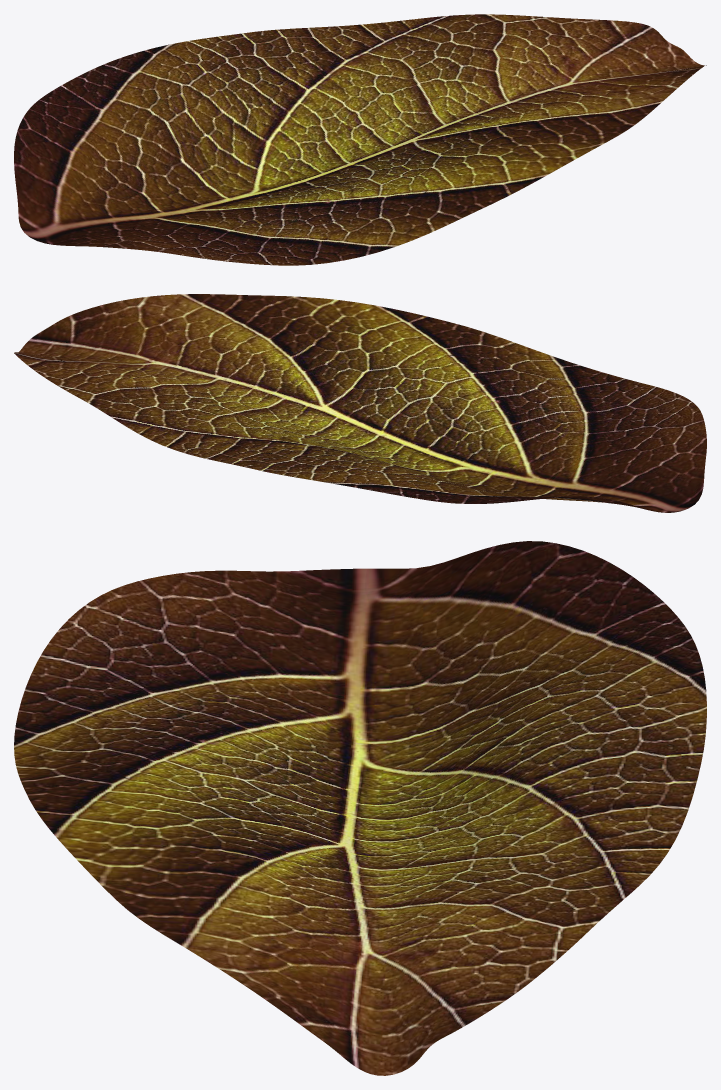
The model's file is leaf_c5.2.glb.
The picture shows the model from 3 angles, top to bottom: view 1: azimuth 30°, elevation 25°; view 2: azimuth 150°, elevation 25°; view 3: azimuth 270°, elevation 25°; orthographic projection. The views are drawn at different scales.
Visible parts, largest first — view 1: Circle.022; view 2: Circle.022; view 3: Circle.022.
Part boxes in pixels (left/top/right/bottom): Circle.022: left=14, top=14, right=706, bottom=265; Circle.022: left=14, top=294, right=706, bottom=512; Circle.022: left=14, top=541, right=706, bottom=1075.
Size of the model in its own units: 0.9999 by 0.086 by 0.5781.
1 material, 1 textured.
